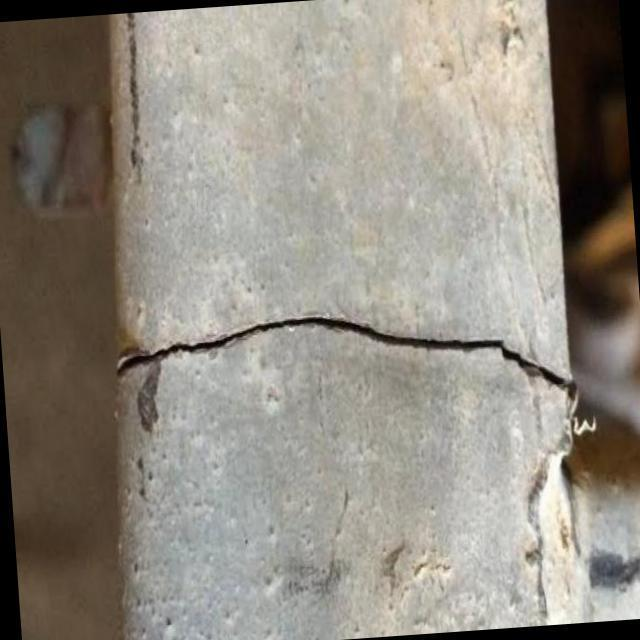defect: (111, 306, 578, 398)
